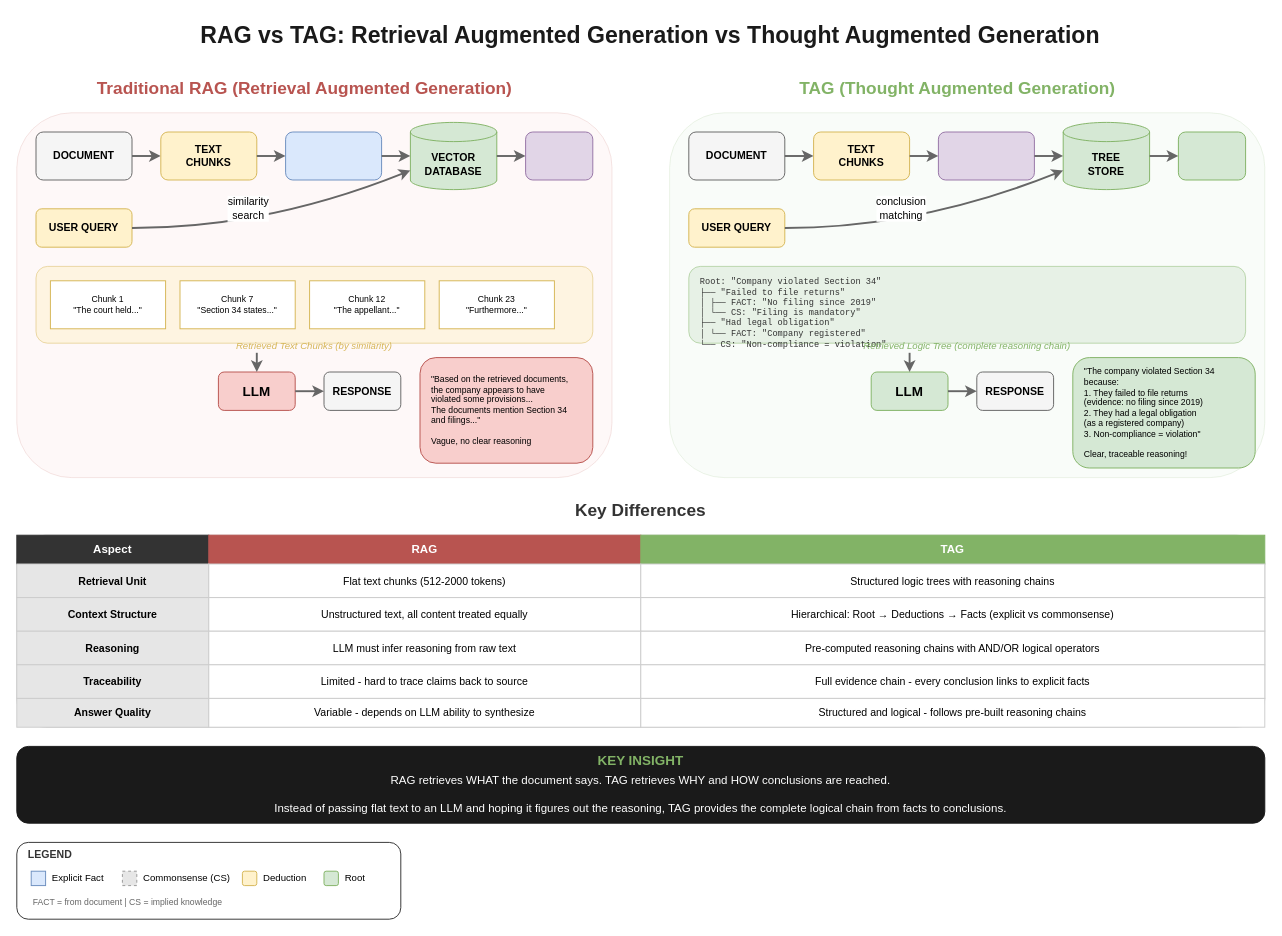
The diagram is 1282 pixels wide and 936 high, and some of its shapes have lost their labels. Here are the shapes that lost their labels. From the top down, the centre of each, then its label:
point 333,155: VECTOR EMBEDDINGS
point 559,155: TOP-K
point 985,155: ATHENA Logic Trees
point 1211,155: TREES
